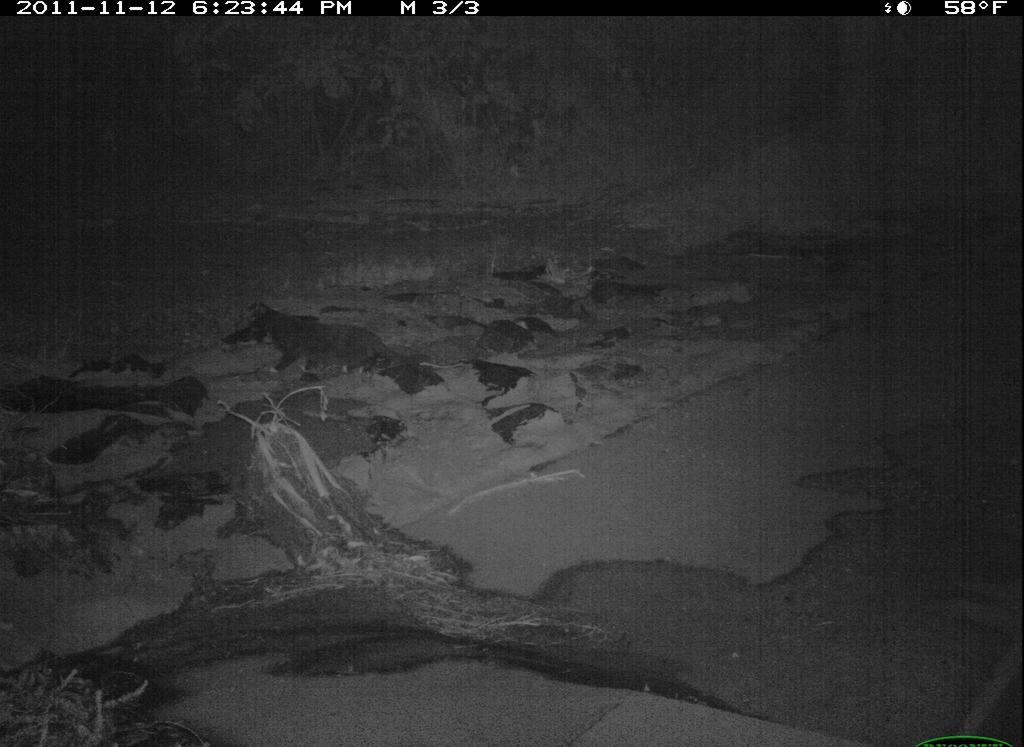cat: (245, 299, 433, 381)
